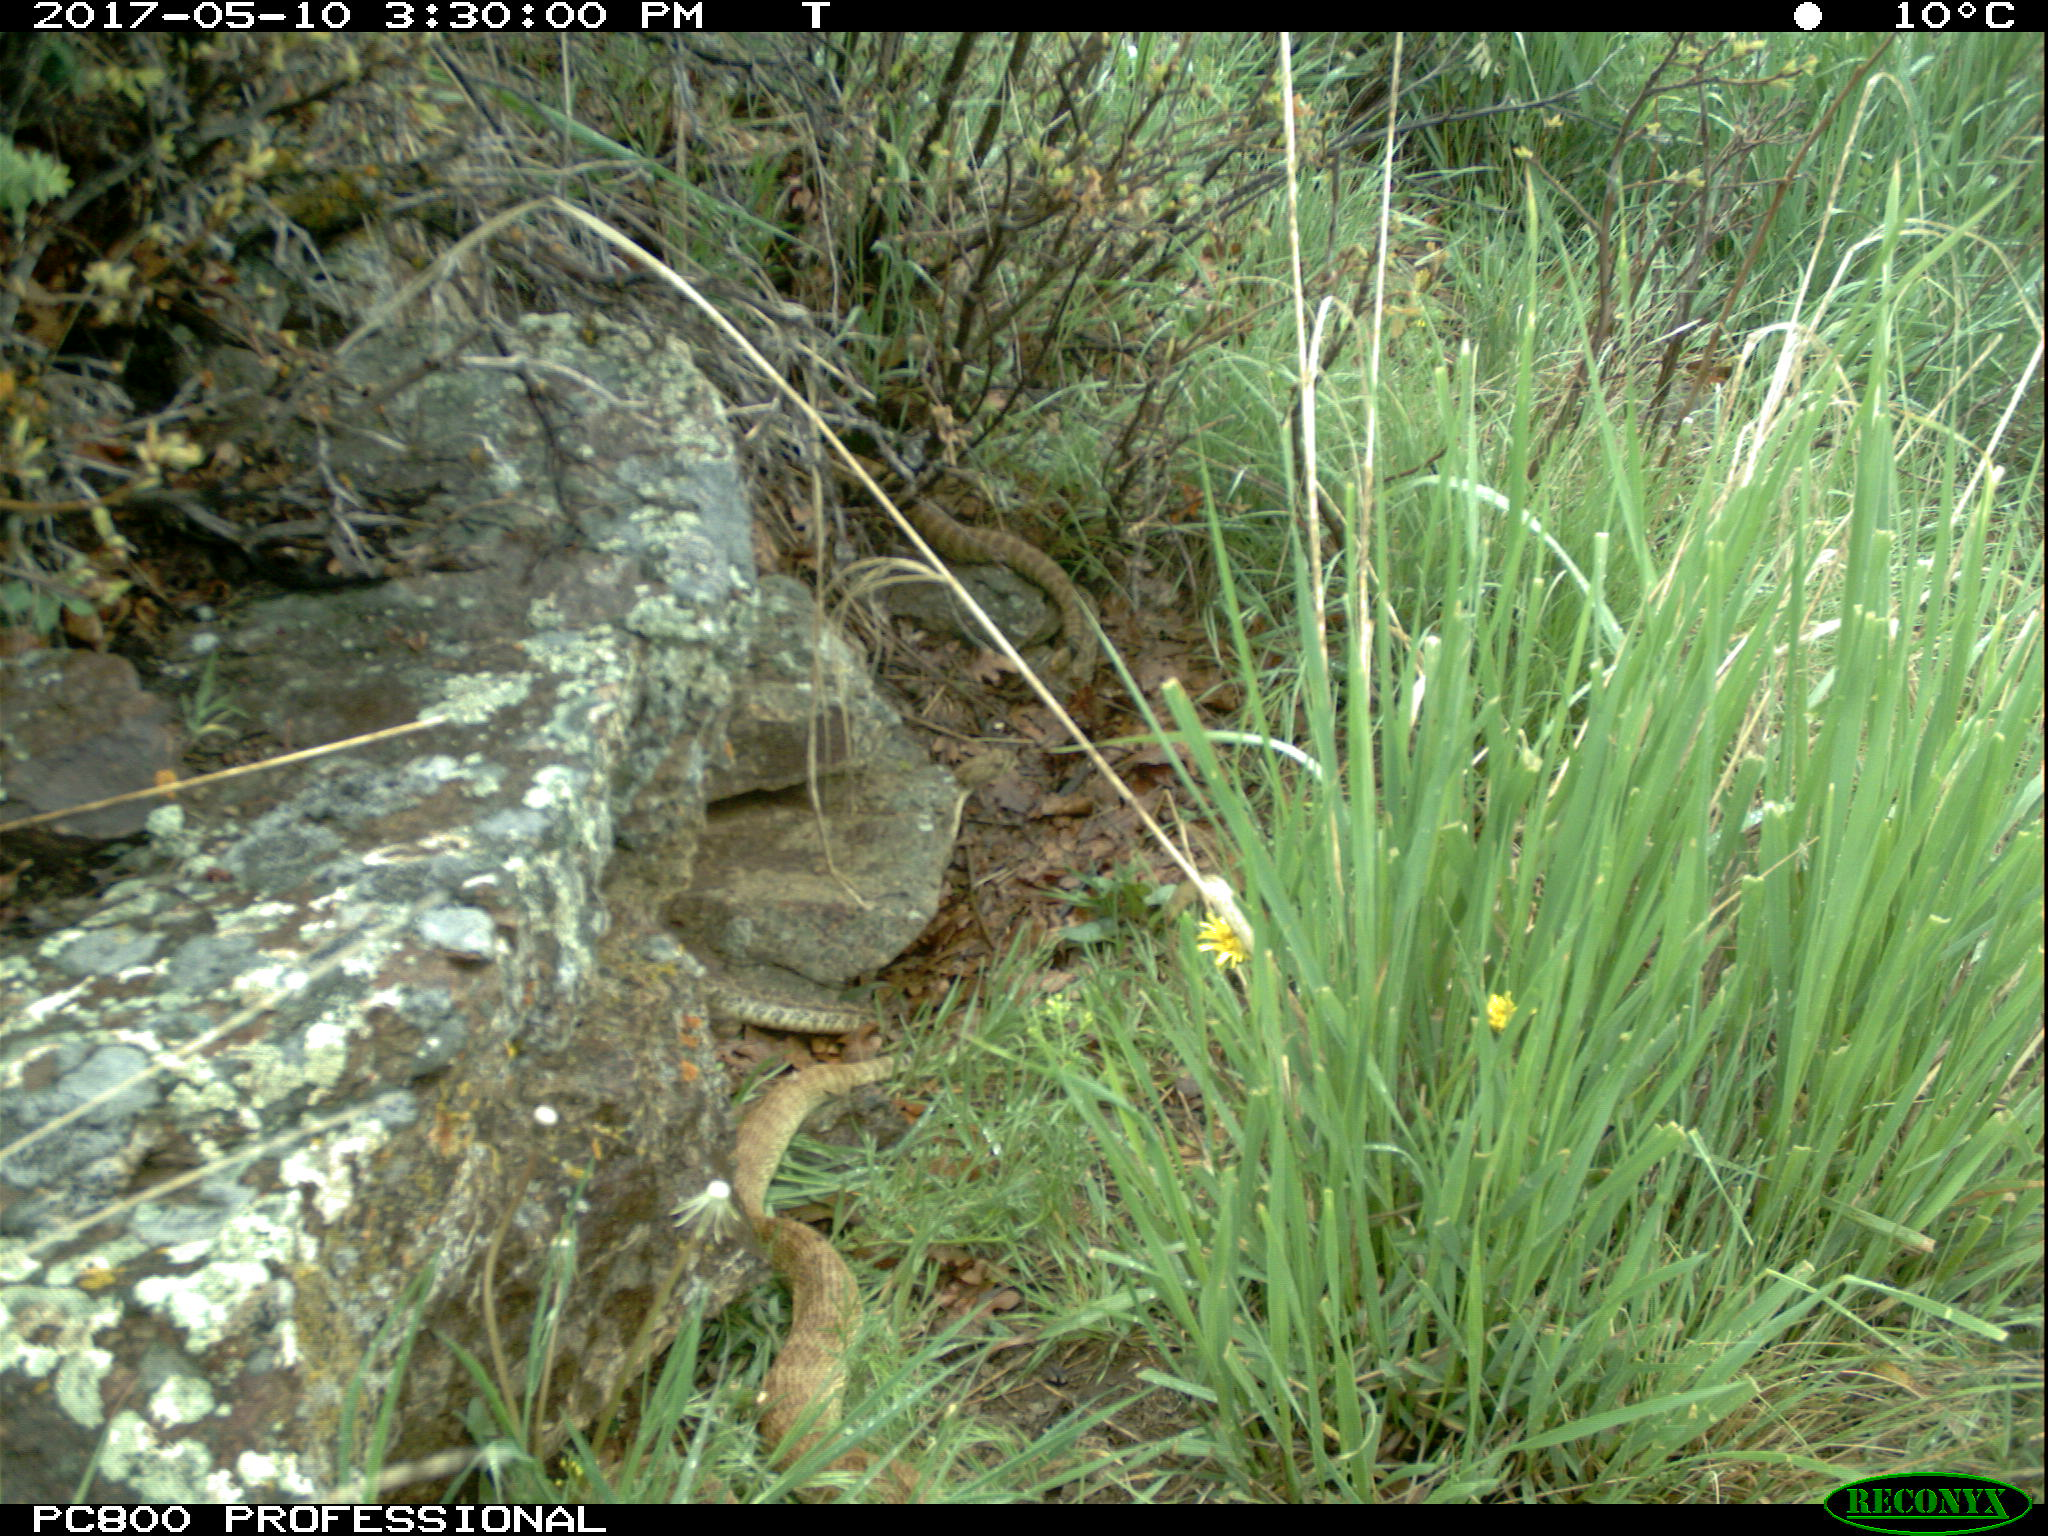snake: (724, 1049, 930, 1504), (839, 461, 1106, 679), (710, 981, 906, 1041)
